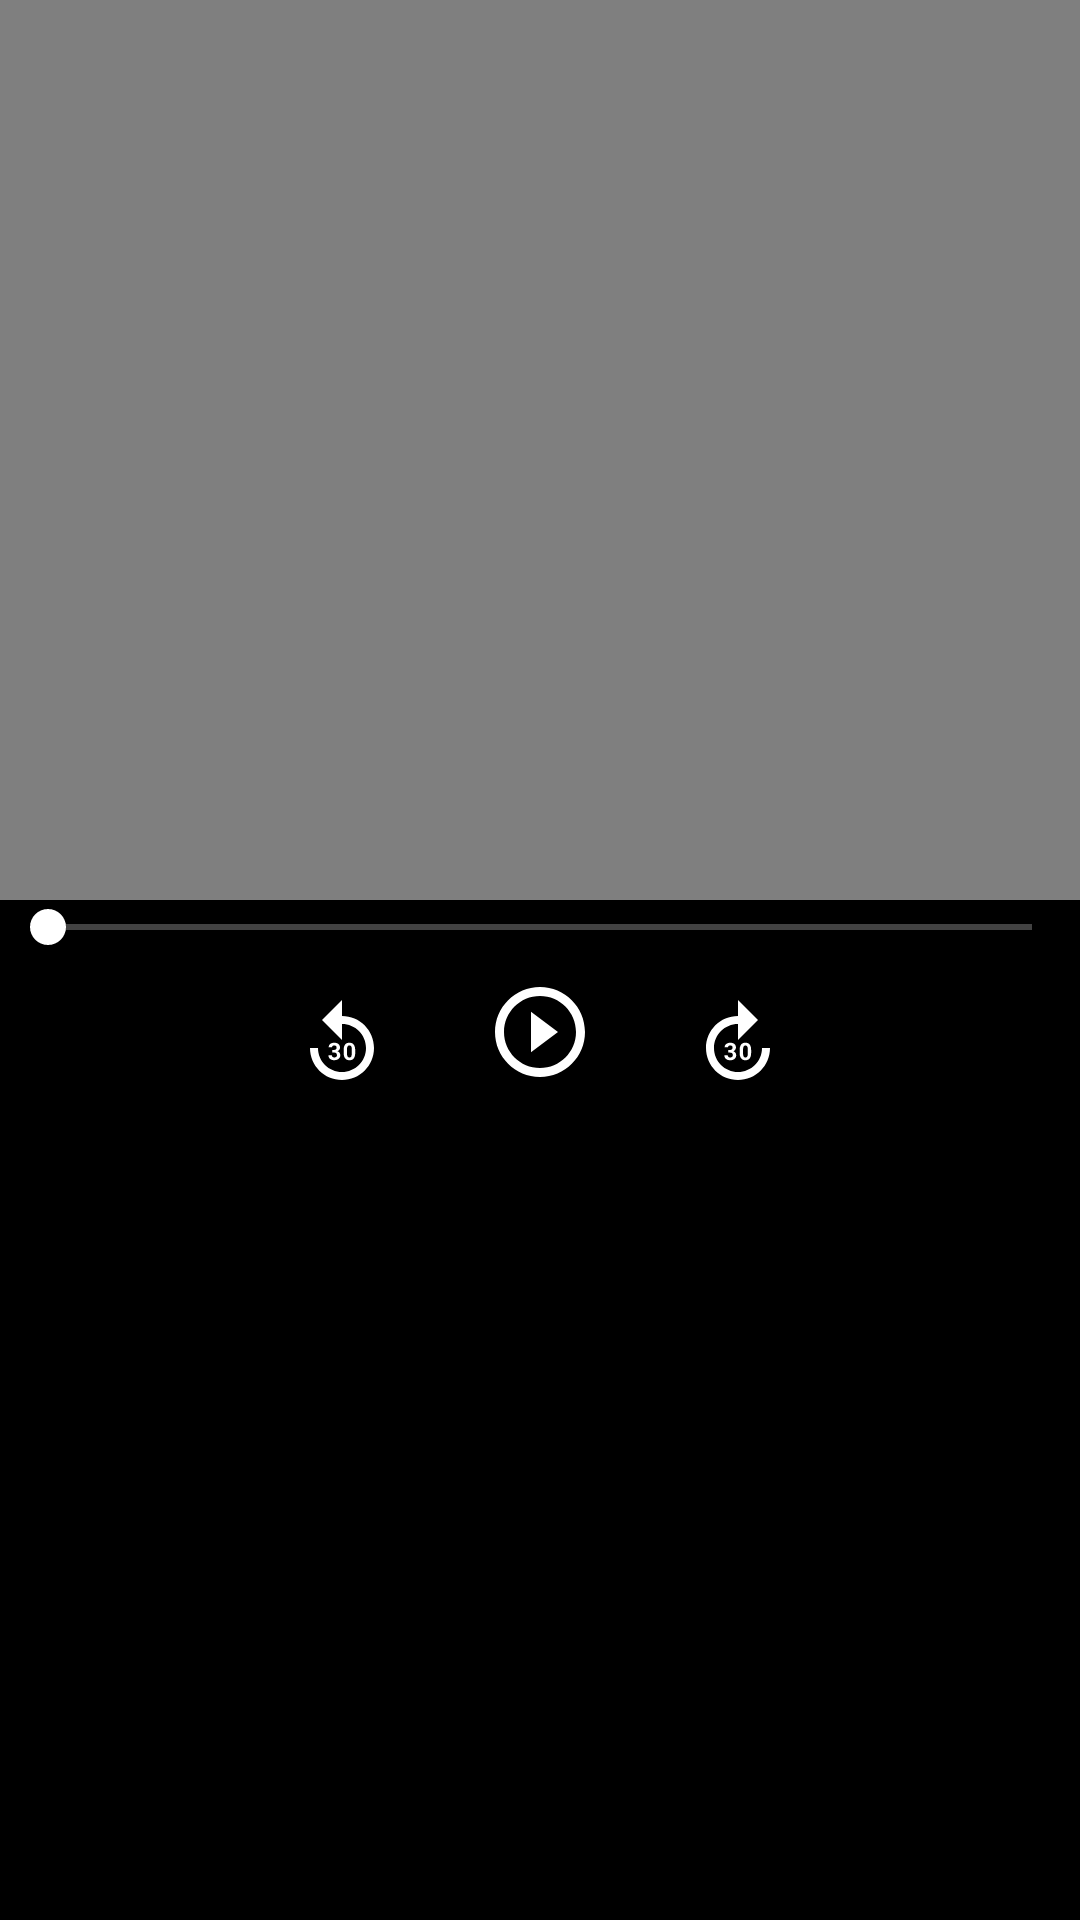

Icons on this 1080 × 1920 Android screen, each with its box as (x1, y1, x2, y2):
forward: (706, 1000, 770, 1080)
play circle: (495, 987, 585, 1077)
replay: (310, 1000, 374, 1080)
